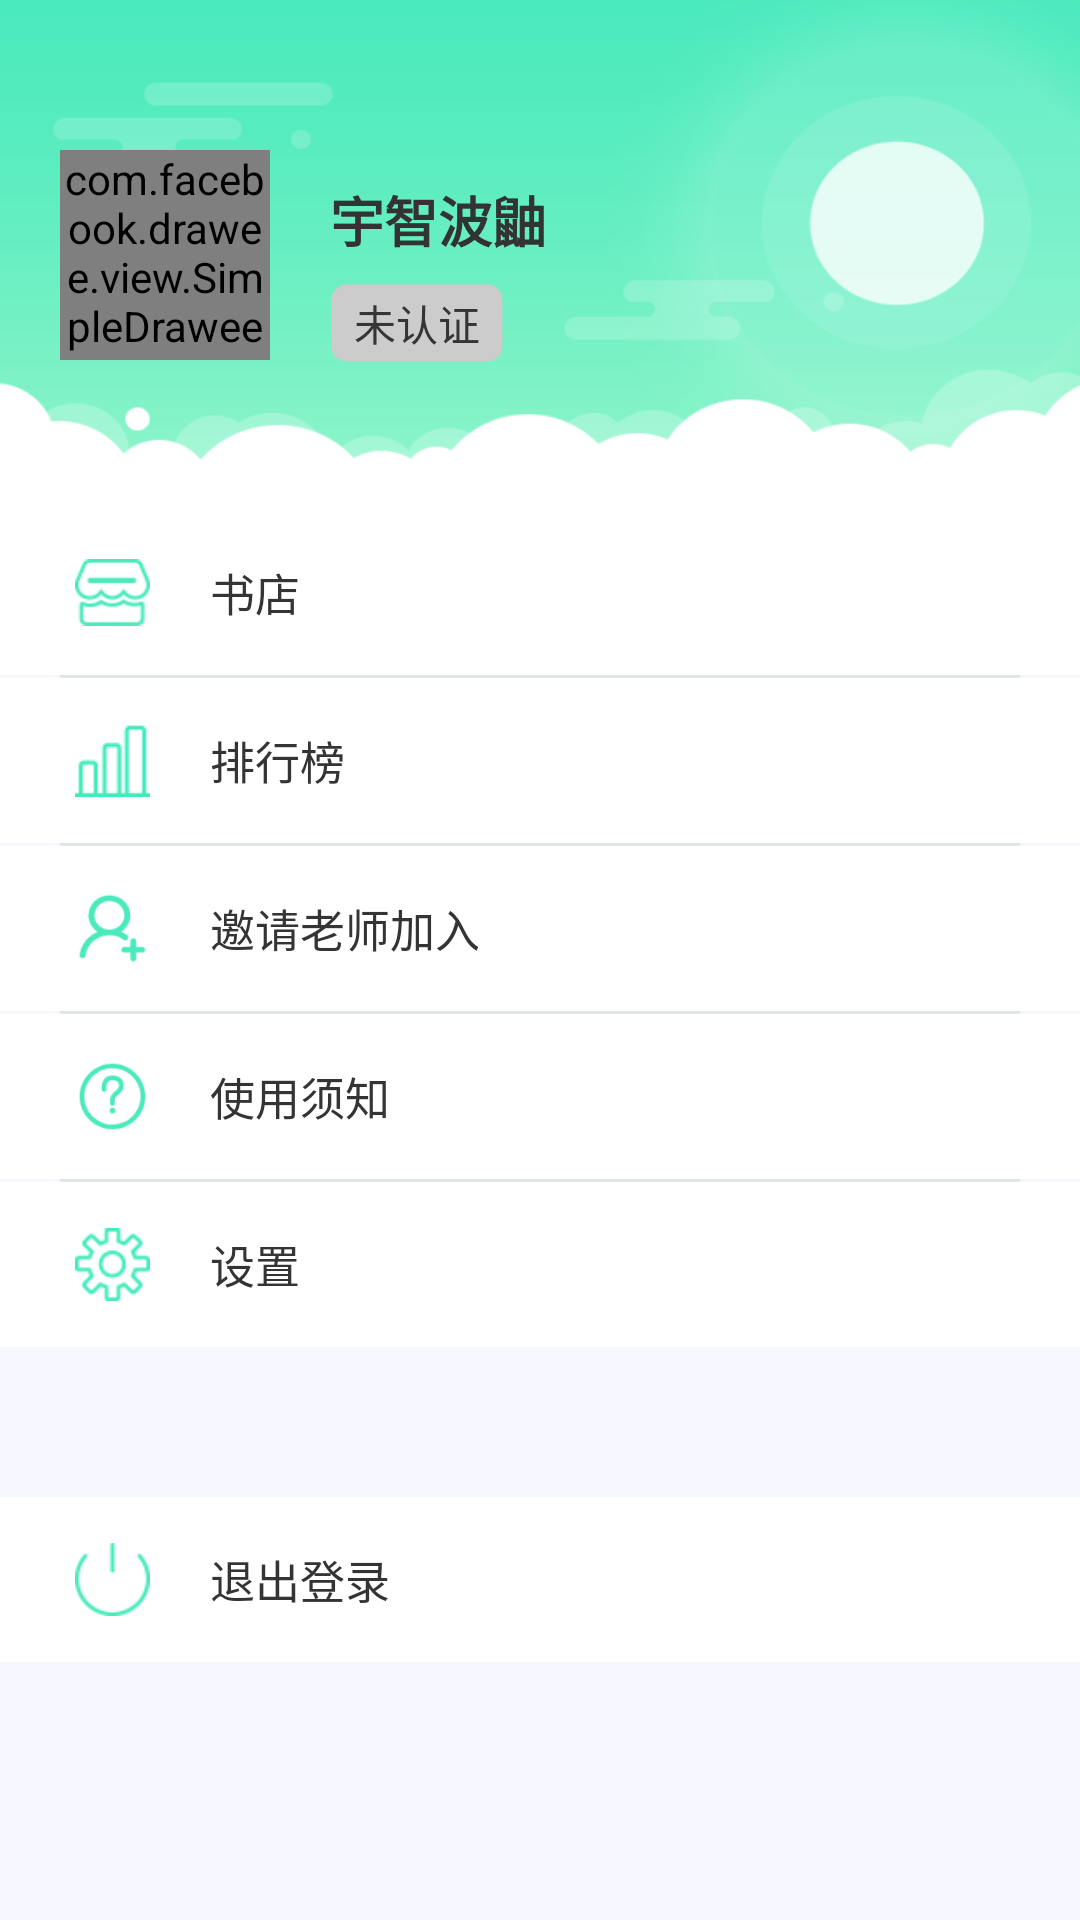

Icon click points for this 1080x1920 phone screenshot, format (x,y):
book shop: (112,592)
get out: (112,1579)
help: (112,1096)
invite: (112,928)
rank list: (112,761)
set: (112,1264)
